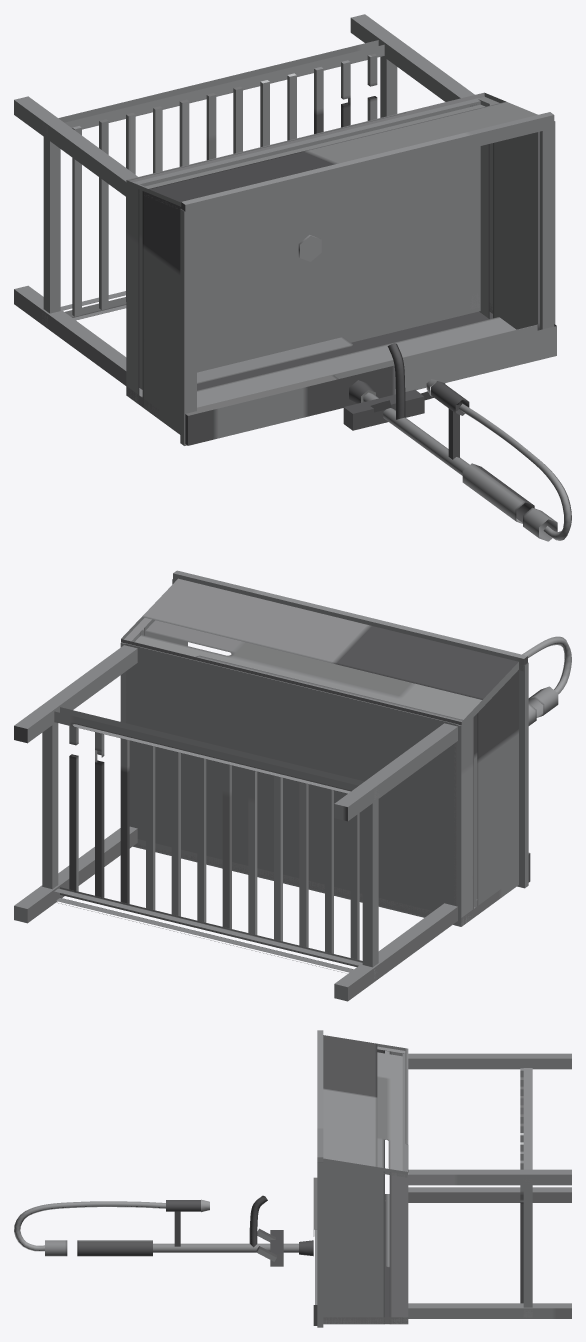
The picture shows the model from 3 angles, top to bottom: view 1: azimuth 30°, elevation 25°; view 2: azimuth 150°, elevation 25°; view 3: azimuth 270°, elevation 25°; orthographic projection. The views are drawn at different scales.
Size of the model in its own units: 1.03 by 0.6475 by 1.91.
